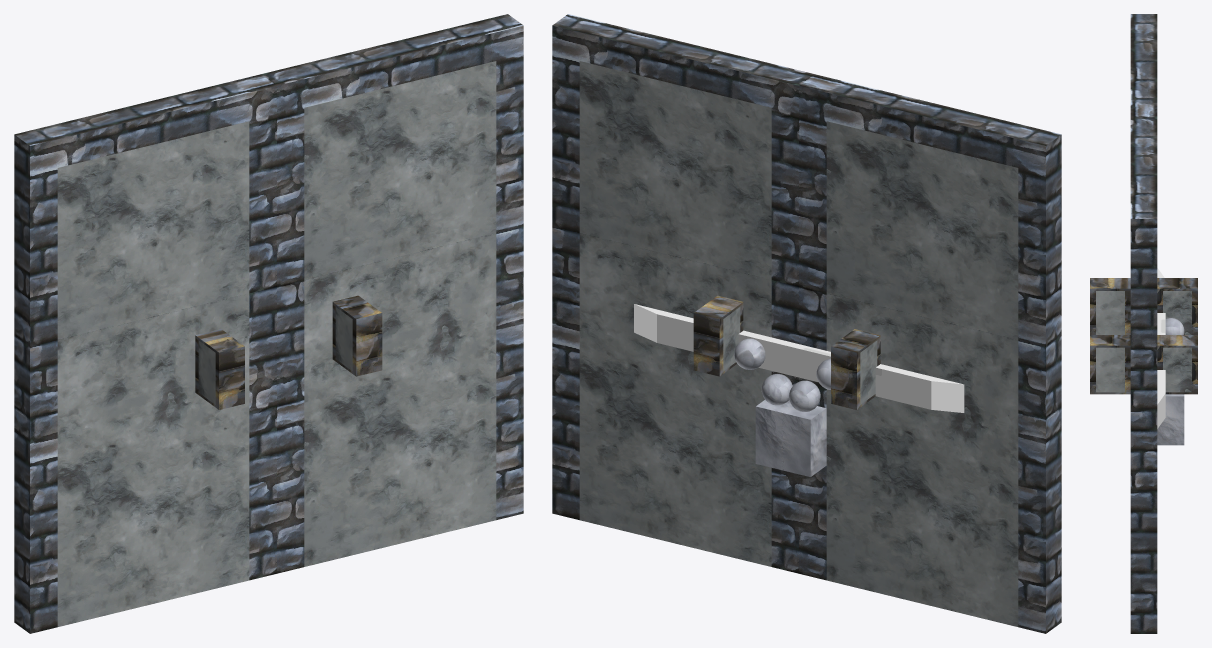
Rendered from LockedDoor.obj.
The picture shows the model from 3 angles, left to right: view 1: azimuth 30°, elevation 25°; view 2: azimuth 150°, elevation 25°; view 3: azimuth 270°, elevation 25°; orthographic projection. The views are drawn at different scales.
Bounding box in the file's own units: 1.8 × 1.7 × 0.4.
5 materials, 5 textured.
